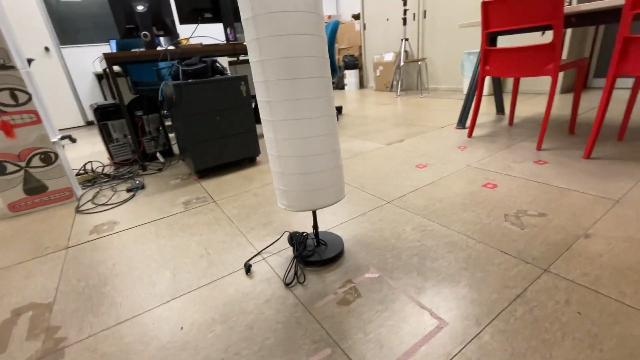Chair: (464, 0, 592, 156), (578, 0, 640, 164)
Lamp: (233, 0, 349, 270)
Stool: (392, 54, 432, 99)
